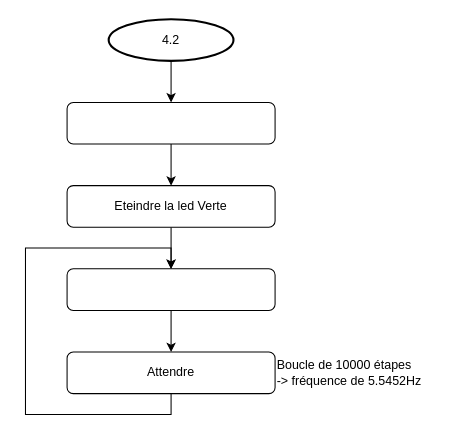
This 449x441 diagram has some shape labels left out. Here are the shapes that lost their labels. From the top down, the centre of each, then its label:
the point at 170,122: Utiliser la pin de la LED Verte comme sortie
the point at 170,289: Inverser l'état de la LED verte
